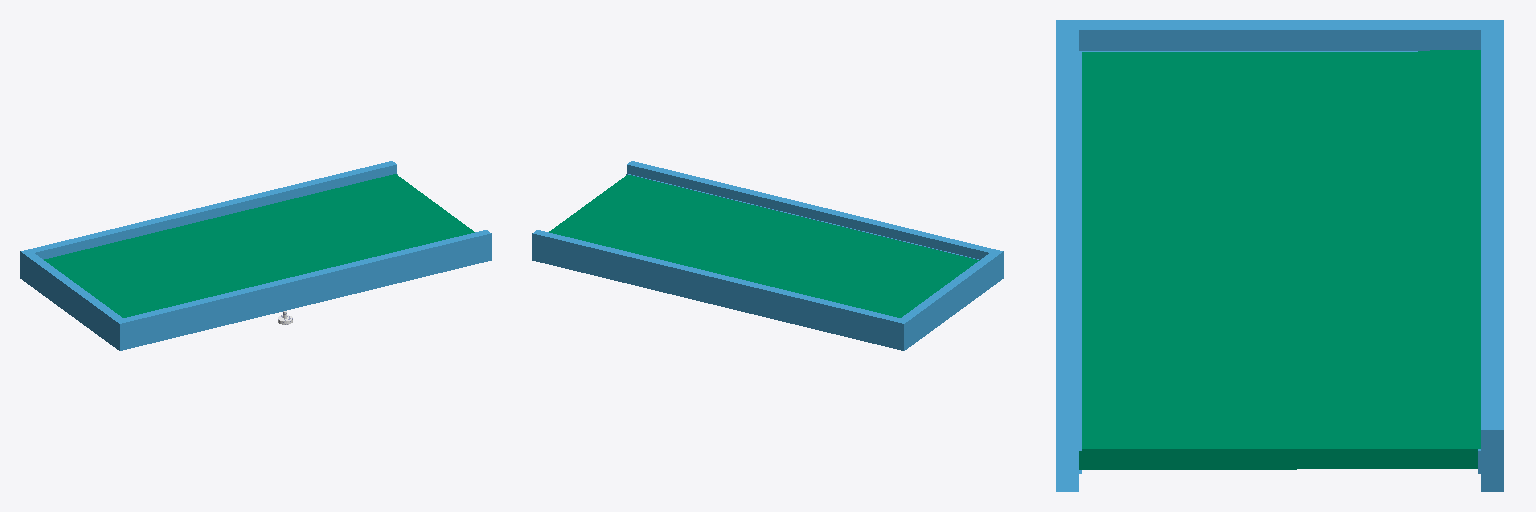
robot.urdf — right-pull-door:
<robot name="right-pull-door">
	<link name="base" />
	<link name="link_0">
		<visual name="out-frame">
			<origin xyz="0 0 0" />
			<geometry>
				<mesh filename="texture_dae/frame.dae" scale="1.1395901382162406 1.1395901382162406 1.1395901382162406" />
			</geometry>
		</visual>
		<collision>
			<origin xyz="0 0 0" />
			<geometry>
				<mesh filename="texture_dae/frame.dae" scale="1.1395901382162406 1.1395901382162406 1.1395901382162406" />
			</geometry>
		</collision>
	</link>
	<joint name="joint_0" type="fixed">
		<origin rpy="1.570796326794897 0 -1.570796326794897" xyz="0 0 0" />
		<child link="link_0" />
		<parent link="base" />
	</joint>
	<link name="link_1">
		<visual name="surf-board">
			<origin xyz="0.3873468247080005 -0.891316019075276 0" />
			<geometry>
				<mesh filename="texture_dae/board.dae" scale="1.1395901382162406 1.1395901382162406 1.1395901382162406" />
			</geometry>
		</visual>
		<collision>
			<origin xyz="0.3873468247080005 -0.891316019075276 0" />
			<geometry>
				<mesh filename="texture_dae/board.dae" scale="1.1395901382162406 1.1395901382162406 1.1395901382162406" />
			</geometry>
		</collision>
	</link>
	<joint name="joint_1" type="revolute">
		<origin xyz="-0.3873468247080005 0.891316019075276 0" />
		<axis xyz="0 -1 0" />
		<child link="link_1" />
		<parent link="link_0" />
		<limit lower="0" upper="1.5079644737231006" />
	</joint>
	<link name="link_2">
		<visual name="handle">
			<origin xyz="0 0 0" />
			<geometry>
				<mesh filename="texture_dae/9962030.dae" scale="1.6583782825068203 1.6583782825068203 1.6583782825068203" />
			</geometry>
		</visual>
		<collision>
			<origin xyz="0 0 0" />
			<geometry>
				<mesh filename="texture_dae/9962030.dae" scale="1.6583782825068203 1.6583782825068203 1.6583782825068203" />
			</geometry>
		</collision>
	</link>
	<joint name="joint_2" type="revolute">
		<origin xyz="0.6953003427910363 -1.0256610878223555 0.02229706594225731" />
		<child link="link_2" />
		<parent link="link_1" />
		<axis xyz="0 0 1" />
		<limit lower="0" upper="0" />
	</joint>
</robot>

--- What the picture shows (computed from the rendered views, not written in the file) ---
The picture shows the robot from 3 angles, left to right: view 1: azimuth 30°, elevation 25°; view 2: azimuth 150°, elevation 25°; view 3: azimuth 270°, elevation 25°; orthographic projection.
Robot: right-pull-door — 4 links, 3 joints (2 revolute, 1 fixed); root link base; default pose: all joints at 0.
Visible links, largest first — view 1: link_1, link_0; view 2: link_1, link_0; view 3: link_1, link_0.
Link boxes in pixels (left/top/right/bottom): link_1: left=44, top=174, right=474, bottom=317; link_0: left=20, top=161, right=491, bottom=350; link_1: left=549, top=175, right=979, bottom=317; link_0: left=532, top=161, right=1003, bottom=350; link_1: left=1079, top=50, right=1480, bottom=469; link_0: left=1056, top=20, right=1503, bottom=491.
Size in the robot's own frame: 1.87 by 0.8638 by 0.2499 metres.
Meshes: 3 distinct files referenced, 3 mesh visuals loaded (3 Collada DAE).
